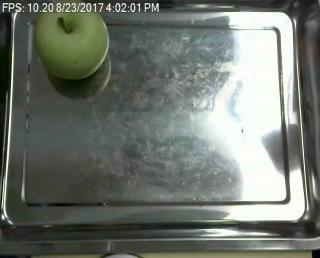fruit: (28, 0, 117, 90)
